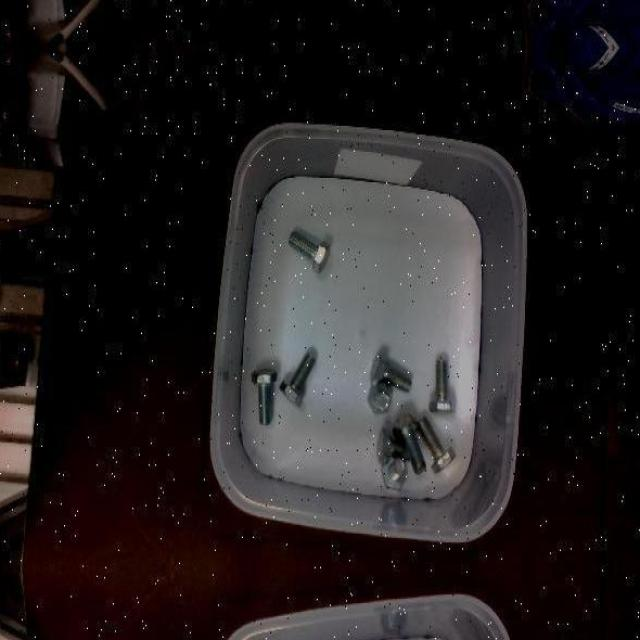screw: (416, 414, 456, 474), (278, 352, 316, 408), (392, 414, 426, 475), (287, 230, 330, 273), (370, 349, 411, 391), (428, 359, 456, 414), (250, 369, 276, 425), (381, 456, 407, 490), (366, 382, 392, 414)
